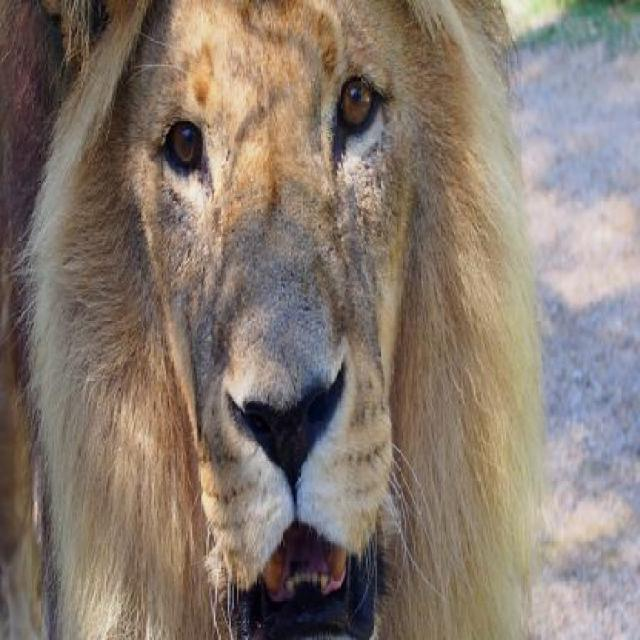Lion: (8, 11, 543, 638)
